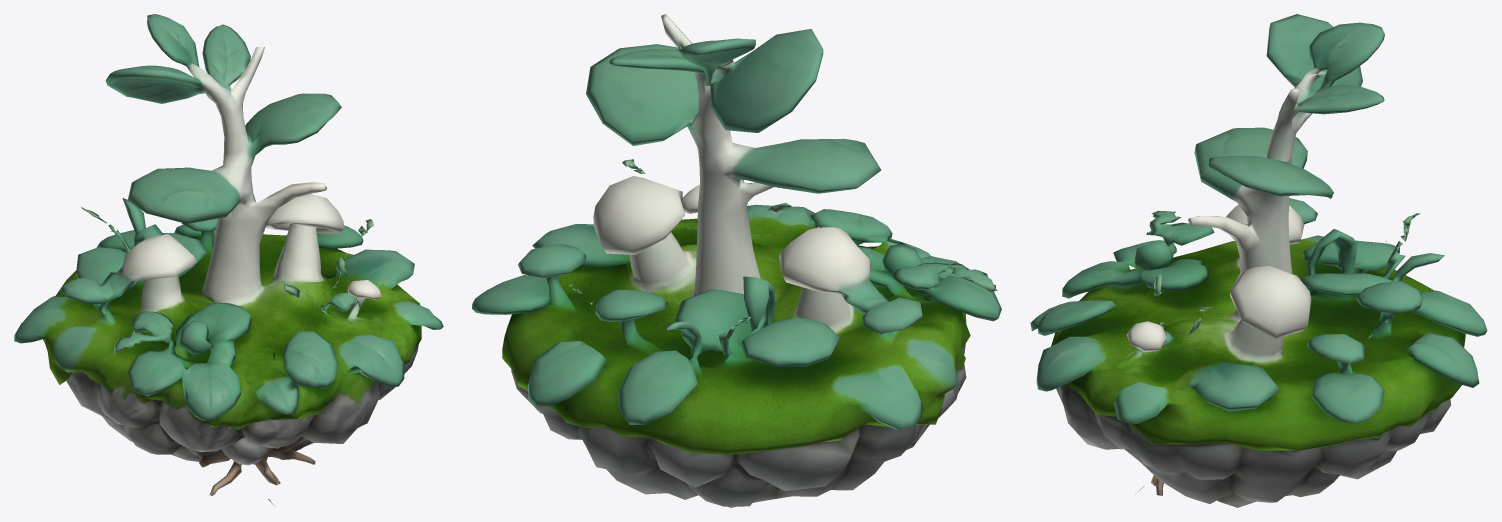
Rendered from cushion_moss.glb.
3 renders of one model, left to right at view 1: azimuth 30°, elevation 25°; view 2: azimuth 150°, elevation 25°; view 3: azimuth 270°, elevation 25°, orthographic. The views are drawn at different scales.
Visible parts, largest first — view 1: model; view 2: model; view 3: model.
Part boxes in pixels (<box>): model: <box>14,14,443,507</box>; model: <box>472,14,1001,507</box>; model: <box>1030,14,1487,507</box>.
Size of the model in its own units: 1.62 by 1.84 by 1.66.
Materials: 1 (1 with a texture image).
